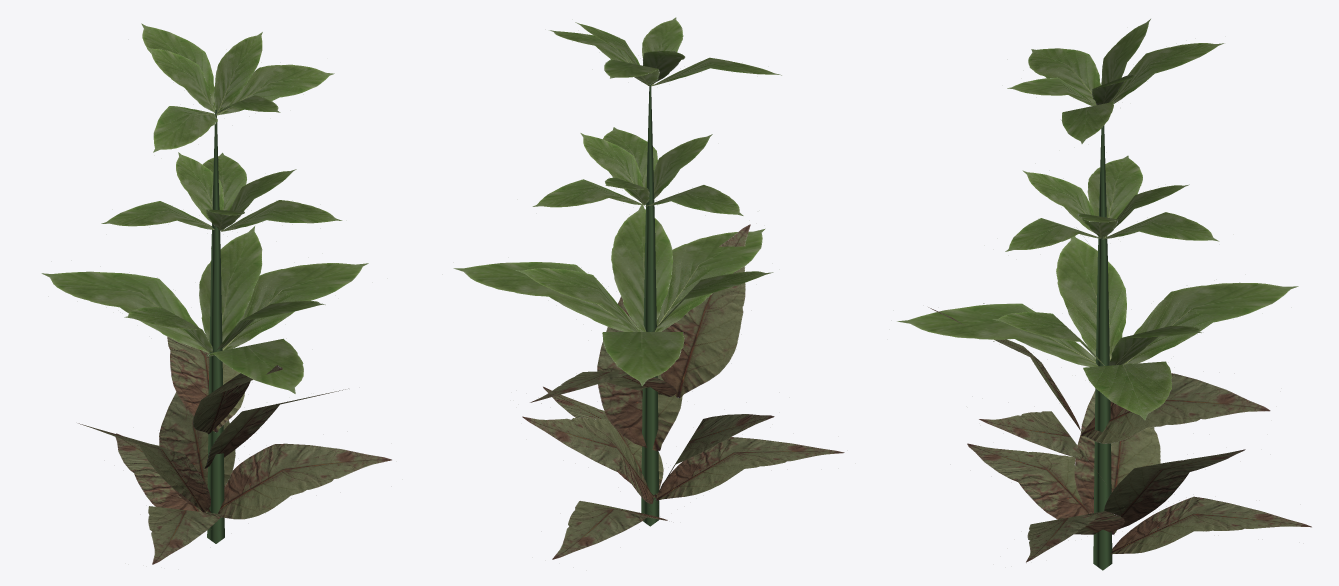
Rendered from detail plant3.FBX.
3 views of the same model, side by side, from view 1: azimuth 30°, elevation 25°; view 2: azimuth 150°, elevation 25°; view 3: azimuth 270°, elevation 25° (orthographic). The views are drawn at different scales.
Visible parts, largest first — view 1: detail plant3; view 2: detail plant3; view 3: detail plant3.
Part boxes in pixels (x1,y1,x2,y2): detail plant3: (41,23,391,564); detail plant3: (453,17,844,559); detail plant3: (897,19,1311,570).
Size of the model in its own units: 1.88 by 2.65 by 1.98.
